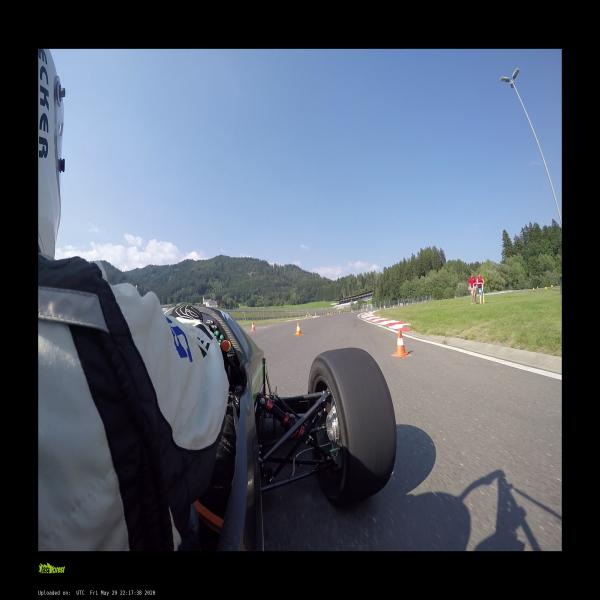orange_cone: (392, 331, 408, 358), (295, 323, 302, 335), (251, 321, 255, 331)
